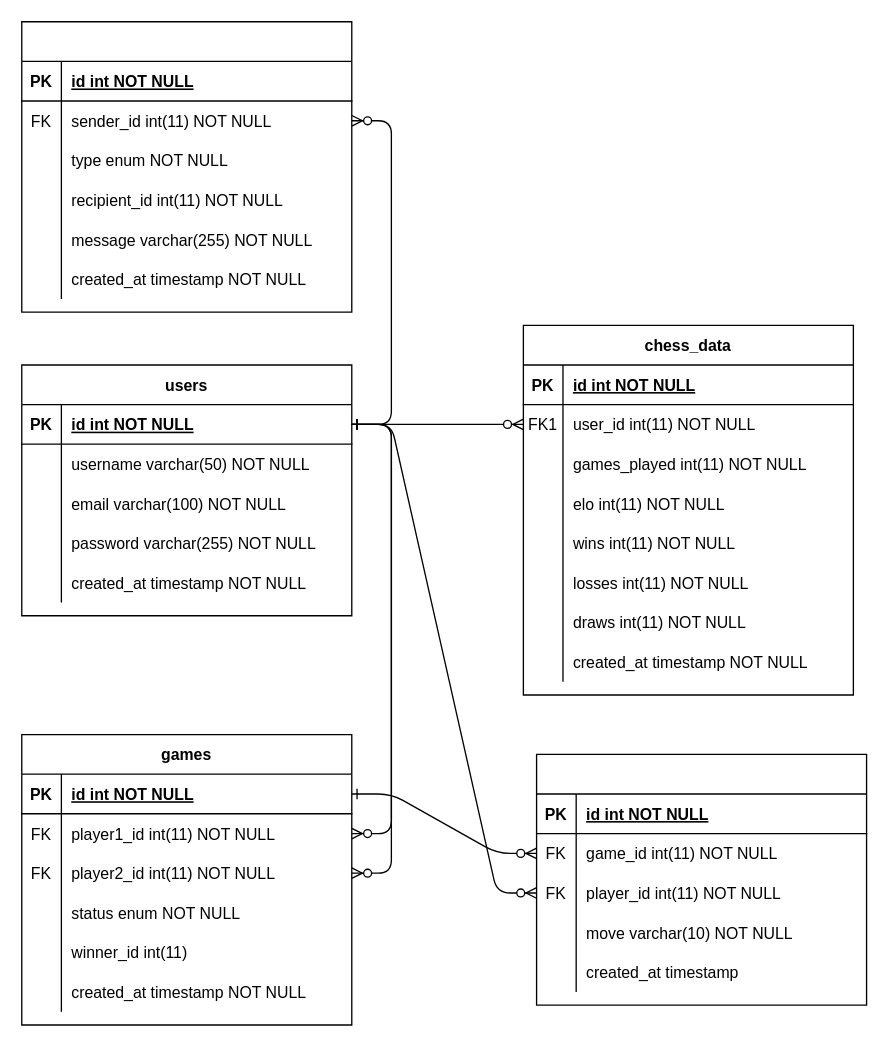
Some shapes in this 888 by 1047 pixel diagram are drawn without their labels. Each missing label, with the box of its shape:
chat_messages: (20, 20, 352, 312)
moves: (535, 753, 867, 1005)
